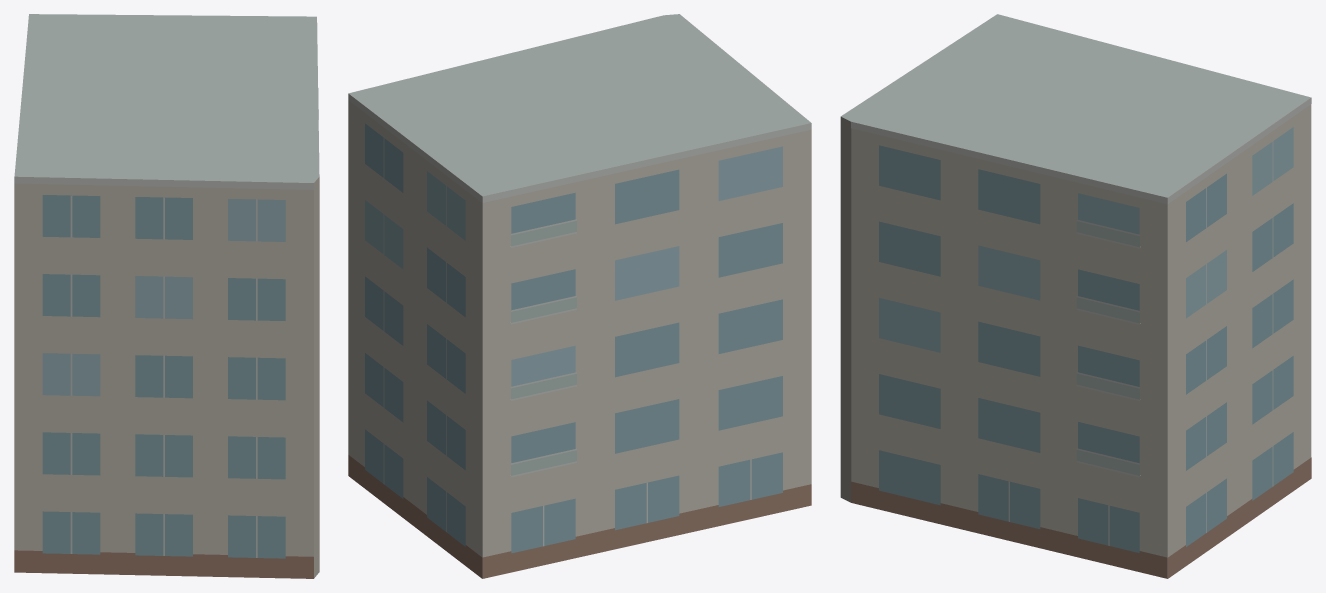
File: survey-upis-33028093.glb
3 renders of one model, left to right at view 1: azimuth 30°, elevation 25°; view 2: azimuth 150°, elevation 25°; view 3: azimuth 270°, elevation 25°, orthographic. The views are drawn at different scales.
Parts seen in each view (by area): view 1: survey-upis-33028093.tmp; view 2: survey-upis-33028093.tmp; view 3: survey-upis-33028093.tmp.
Boxes of the visible parts, x1,y1,x2,y2 form: survey-upis-33028093.tmp: (14,14,319,578); survey-upis-33028093.tmp: (348,14,811,578); survey-upis-33028093.tmp: (840,14,1311,578).
Bounding box in the file's own units: 14.8 × 14.3 × 16.02.
